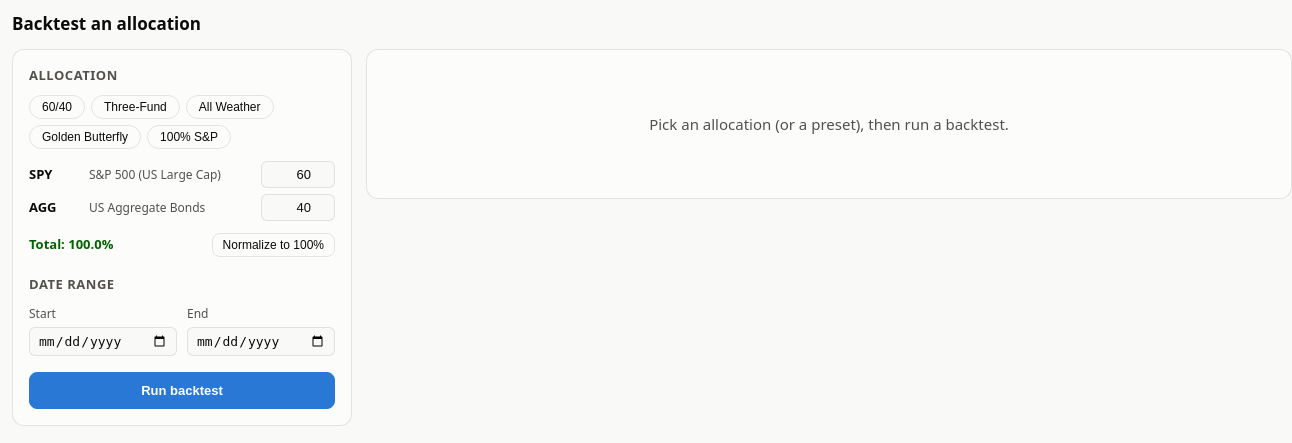
Backtest › normalizes weights back to 100%
Expected: the text "Total: 100.0%" is shown, [29,235,113,255]
Replace the text in the number field named "SPY weight %" with "20" at (298, 174), box [261,161,335,188]
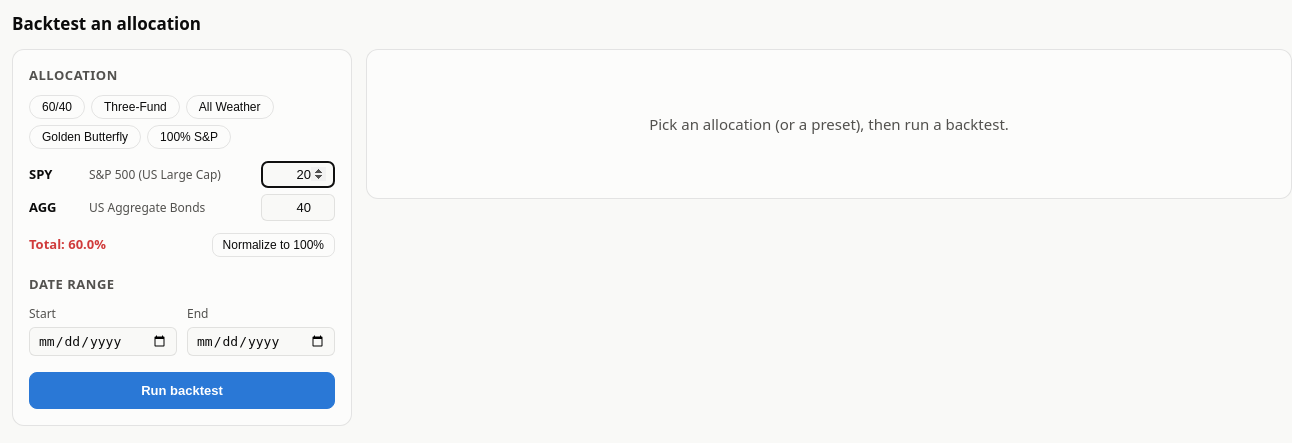
Click the button "Normalize to 100%".
click(273, 245)  # box [212,233,335,257]
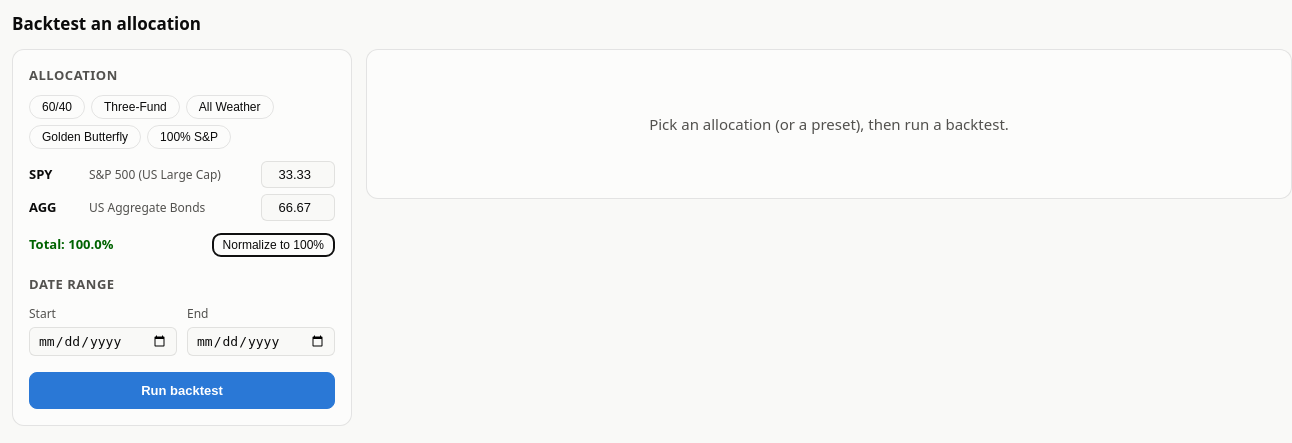
Now the text "Total: 100.0%" is shown, box [29,235,113,255]
